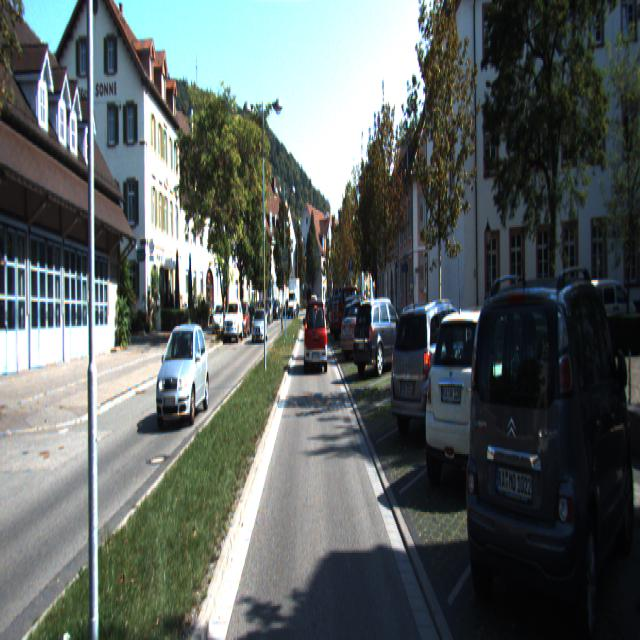Car: (461, 272, 640, 638), (421, 302, 535, 515), (386, 304, 485, 449), (156, 322, 211, 428), (352, 296, 410, 376), (340, 298, 384, 356), (330, 286, 365, 339), (306, 301, 328, 375), (224, 300, 243, 340), (252, 308, 268, 344), (235, 302, 251, 338), (213, 303, 225, 334)
